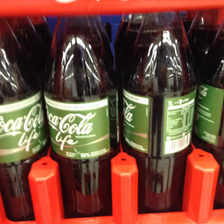soda: (43, 16, 120, 217), (122, 12, 198, 215), (1, 20, 45, 220)
